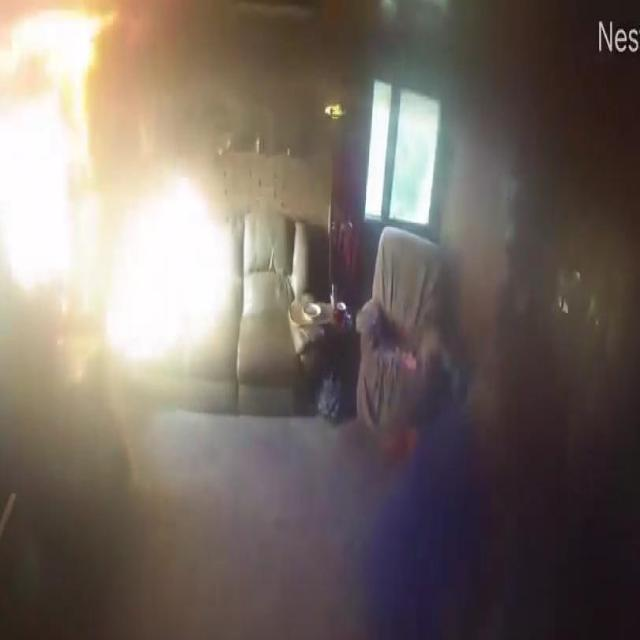smoke: (0, 0, 109, 89)
